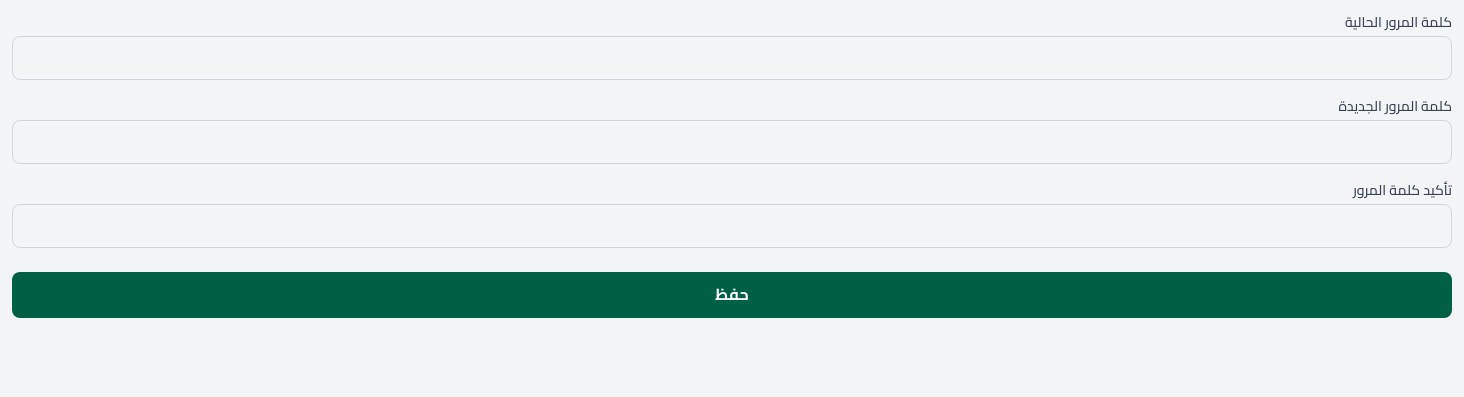
Test: ChangePasswordForm › يرفض عدم التطابق ويركّز حقل التأكيد
Step 1. Type "old1234" into the password field labelled "كلمة المرور الحالية" → [732, 58], box x1=12 y1=36 x2=1452 y2=80
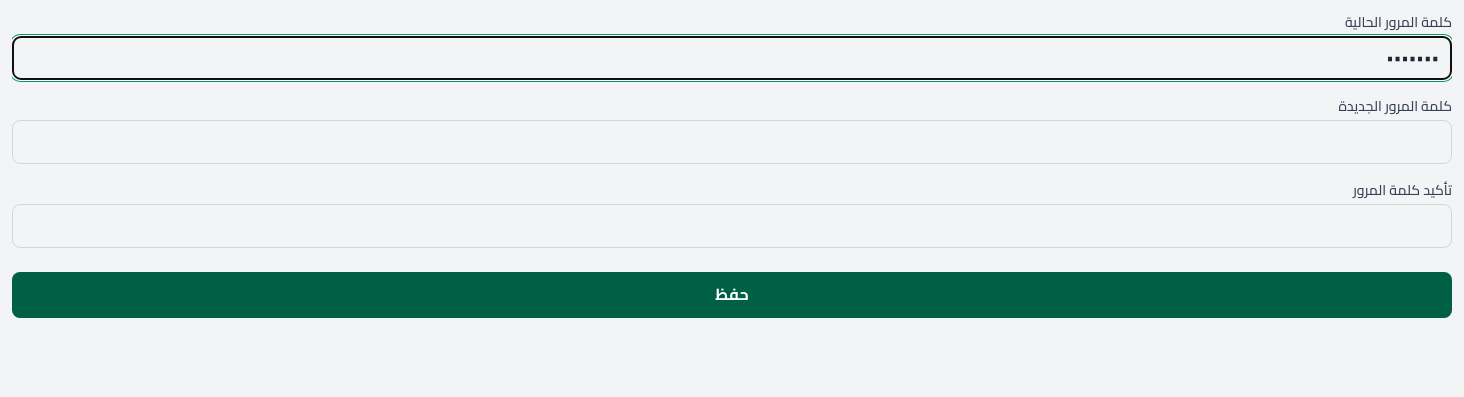
Step 2. Type "newpass1234" into the password field labelled "كلمة المرور الجديدة" → [732, 142], box x1=12 y1=120 x2=1452 y2=164
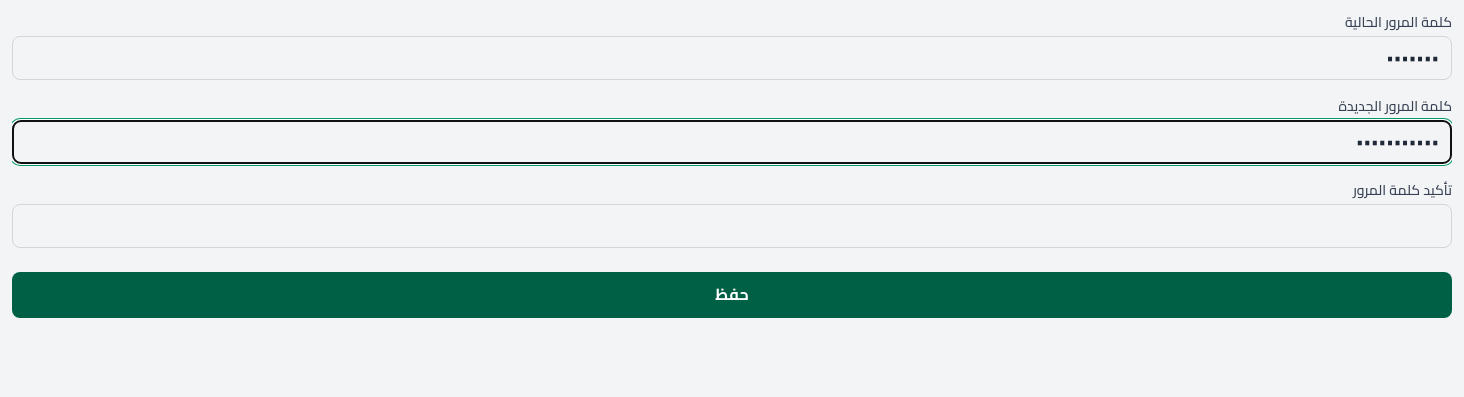
Step 3. Type "different" into the password field labelled "تأكيد كلمة المرور" → [732, 226], box x1=12 y1=204 x2=1452 y2=248
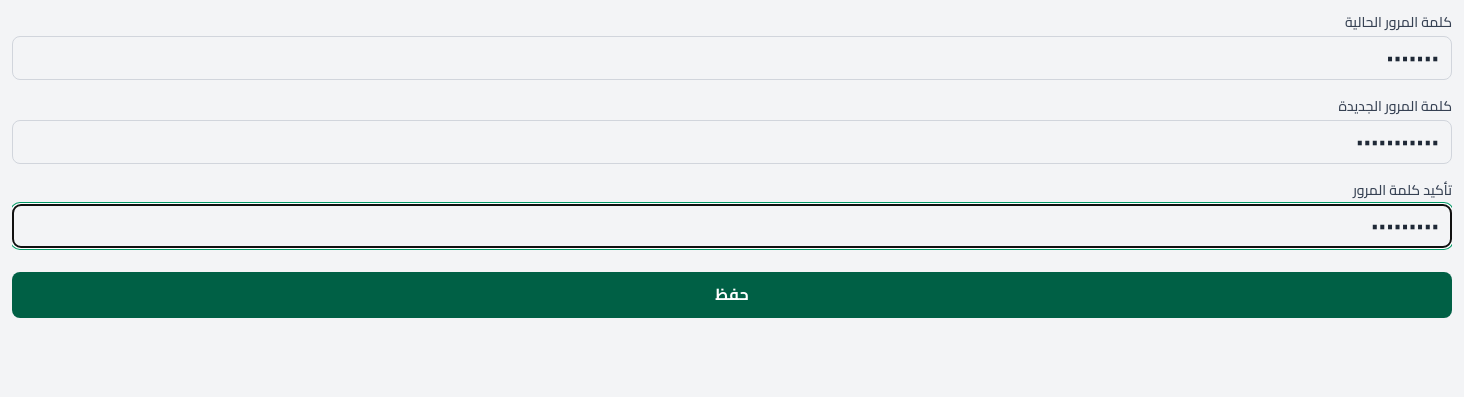
Step 4. Click the button "حفظ" → [732, 295], box x1=12 y1=272 x2=1452 y2=318
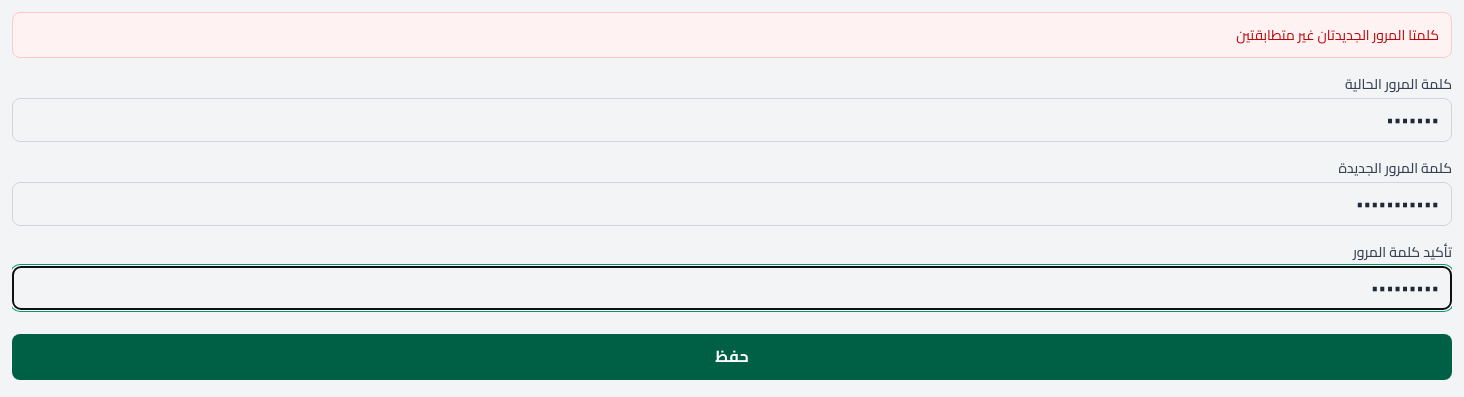
Expected: the message shows "غير متطابقتين", x1=1236 y1=22 x2=1439 y2=48
